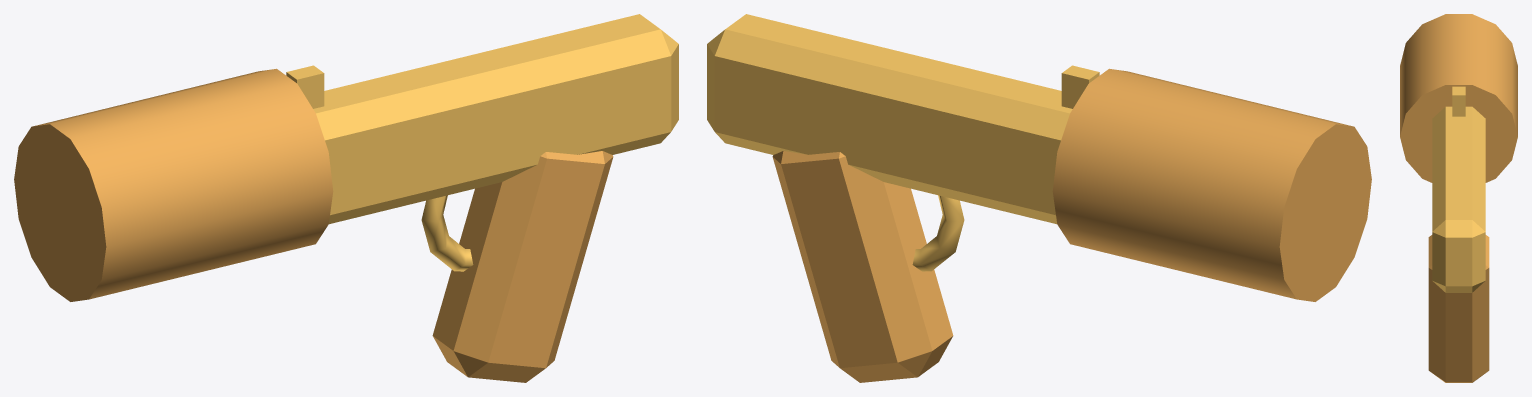
The model's file is FlareGun.fbx.
3 renders of one model, left to right at view 1: azimuth 30°, elevation 25°; view 2: azimuth 150°, elevation 25°; view 3: azimuth 270°, elevation 25°, orthographic. The views are drawn at different scales.
Parts seen in each view (by area): view 1: FlareGun; view 2: FlareGun; view 3: FlareGun.
Part boxes in pixels (bbox=[...]): FlareGun: bbox=[14, 14, 678, 382]; FlareGun: bbox=[707, 14, 1371, 382]; FlareGun: bbox=[1400, 14, 1517, 382].
Bounding box in the file's own units: 0.67 × 0.3734 × 0.176.
